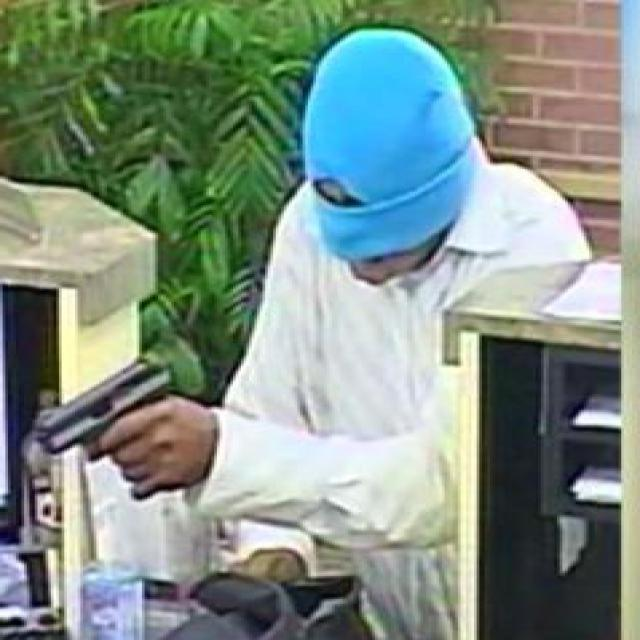weapon: (34, 353, 177, 464)
